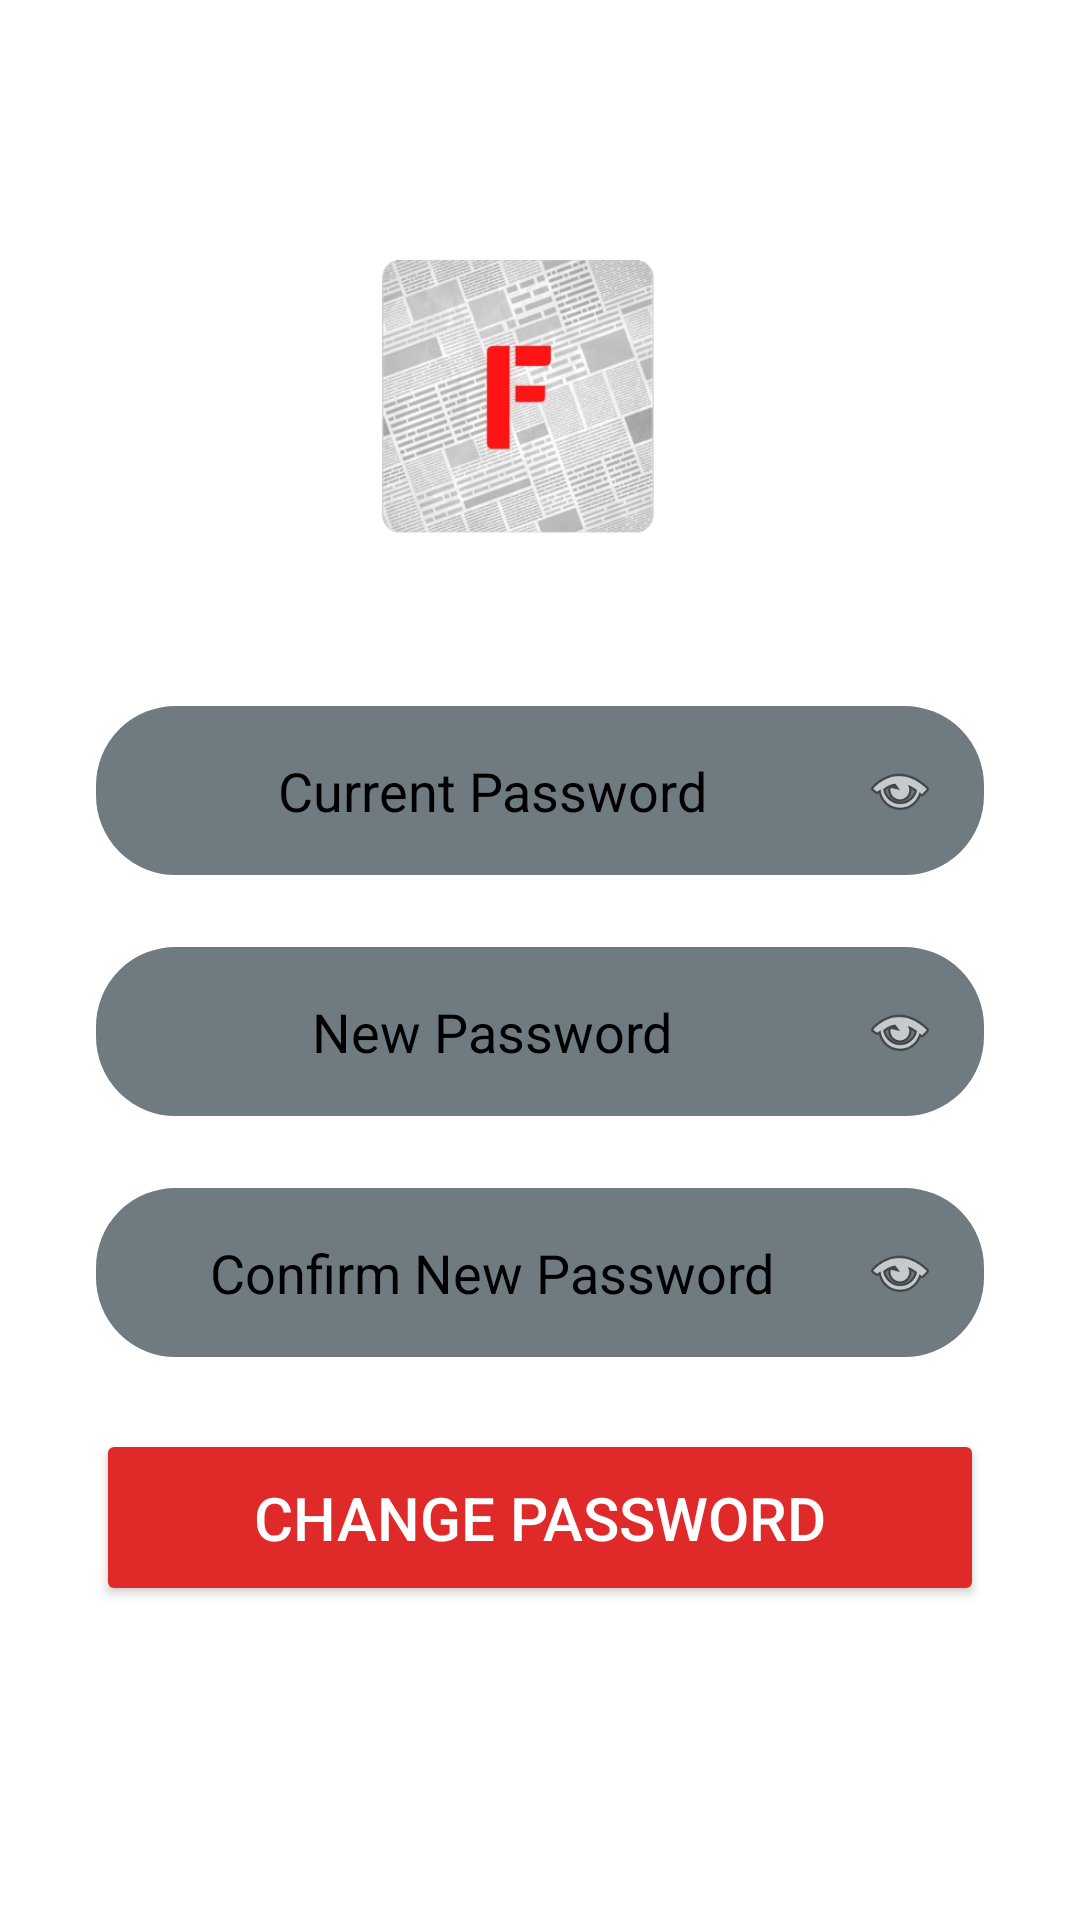

Screen size 1080×1920. Icon name, then its center in pixels as (x=x, y=y):
Toggle password visibility: (x=900, y=792), (x=900, y=1033), (x=900, y=1274)
